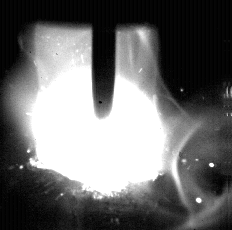arame: (93, 0, 116, 119)
poca: (29, 0, 167, 230)
